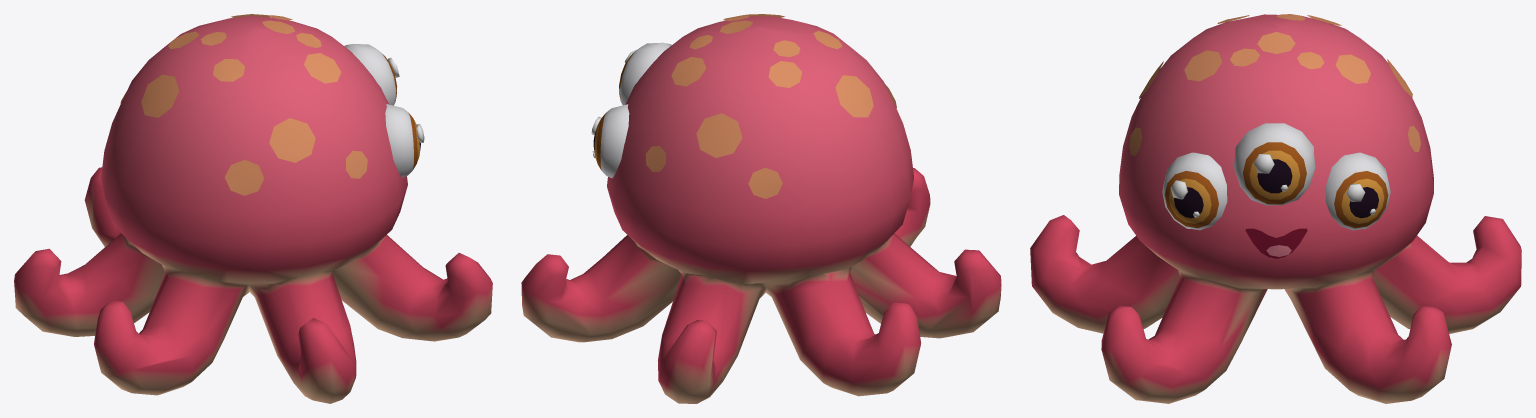
Rendered from pudloo.glb.
The picture shows the model from 3 angles, left to right: view 1: azimuth 30°, elevation 25°; view 2: azimuth 150°, elevation 25°; view 3: azimuth 270°, elevation 25°; orthographic projection. The views are drawn at different scales.
Parts seen in each view (by area): view 1: pudloo; view 2: pudloo; view 3: pudloo.
Boxes of the visible parts, box(x1,y1,x2,y2) form: pudloo: box(14, 14, 492, 403); pudloo: box(521, 14, 1001, 403); pudloo: box(1030, 14, 1521, 403).
Bounding box in the file's own units: 1.76 × 1.4 × 2.
